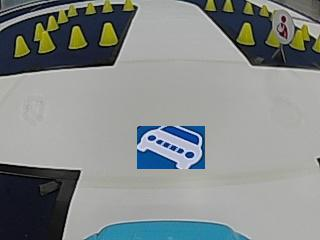cone: (99, 22, 118, 46), (68, 26, 87, 49), (236, 22, 255, 45), (39, 30, 55, 52), (14, 35, 29, 56), (291, 29, 304, 50), (46, 15, 58, 30), (85, 2, 96, 15), (102, 0, 113, 13), (57, 9, 68, 22), (243, 1, 254, 14), (122, 0, 134, 11), (204, 0, 216, 11), (312, 34, 319, 52), (223, 1, 234, 12), (68, 4, 78, 16), (259, 4, 269, 16)
patient: (274, 9, 291, 41)
